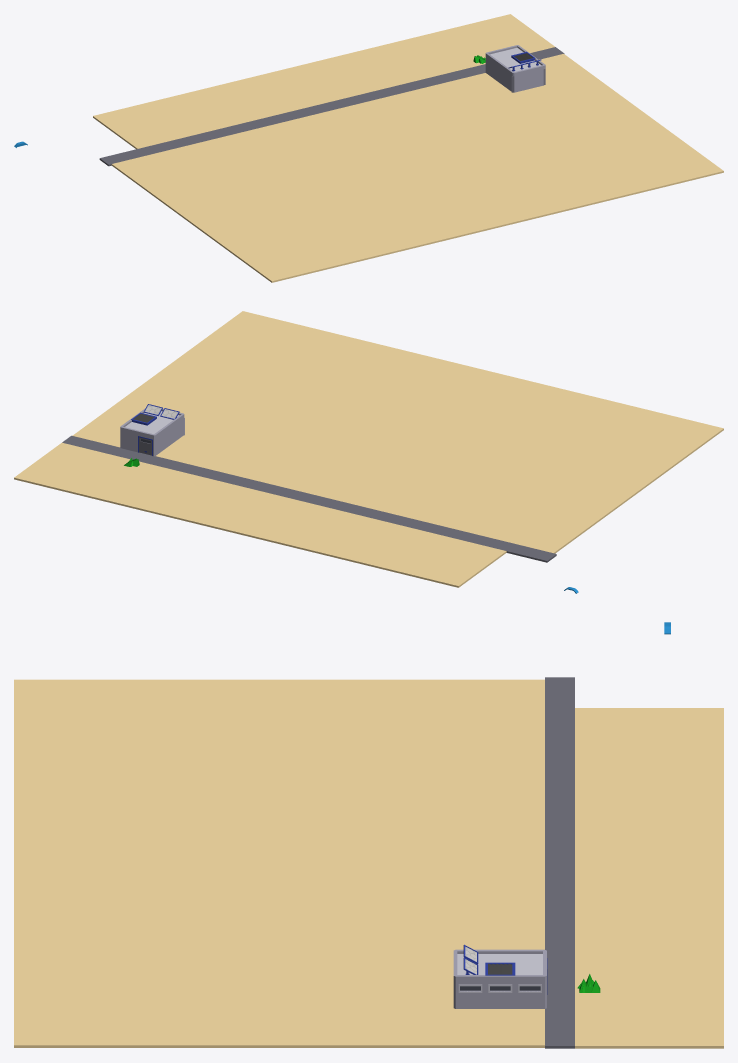
The model's file is sketch2tex.obj.
3 views of the same model, one above another, from view 1: azimuth 30°, elevation 25°; view 2: azimuth 150°, elevation 25°; view 3: azimuth 270°, elevation 25° (orthographic). The views are drawn at different scales.
Bounding box in the file's own units: 32.89 × 1.54 × 23.8.
Materials: 10 (1 with a texture image).
